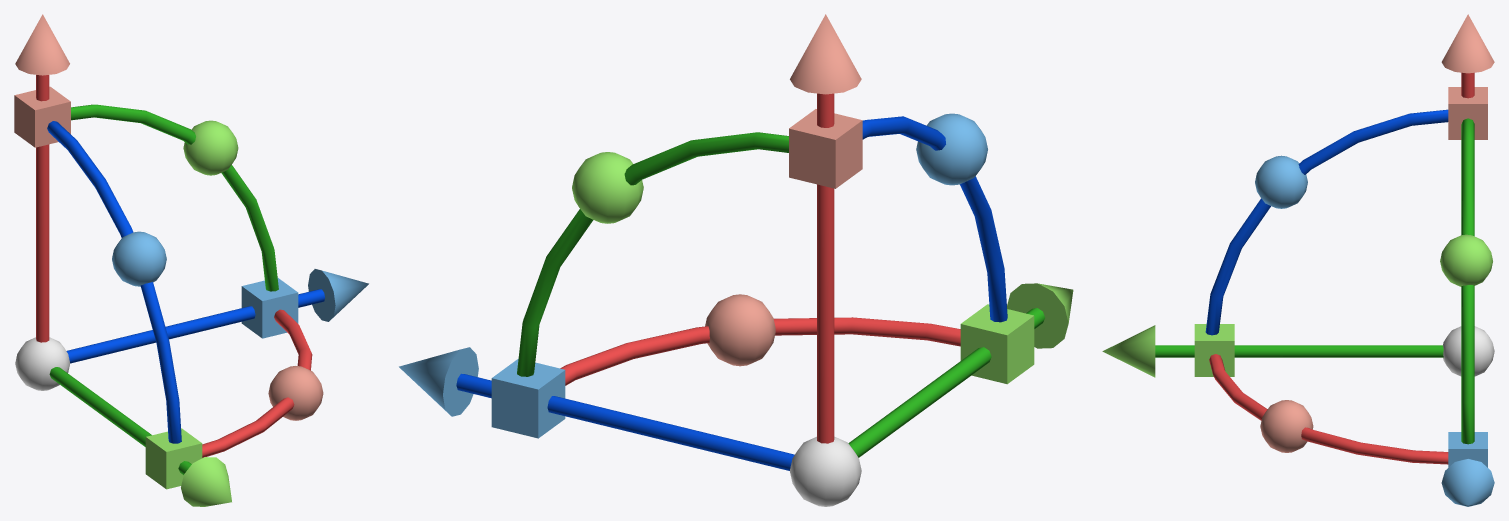
Rendered from Gizmo.Full.Test3.glb.
3 renders of one model, left to right at view 1: azimuth 30°, elevation 25°; view 2: azimuth 150°, elevation 25°; view 3: azimuth 270°, elevation 25°, orthographic. The views are drawn at different scales.
Visible parts, largest first — view 1: BendTest, BendTest.001, BaseLine.002, BaseLine.003, zAxisCube, BendTest.002, ySphere, yAxisCube, xAxisCube, xSphere, zSphere, Origin (+4 smaller); view 2: BendTest.001, BendTest.002, BaseLine.002, BaseLine.003, zAxisCube, xAxisCube, BendTest, yAxisCube, zSphere, Origin, xSphere, ySphere (+4 smaller); view 3: BendTest, BendTest.001, BaseLine.001, BendTest.002, xSphere, ySphere, zSphere, xDragCone, zDragCone, yAxisCube, zAxisCube, Origin (+2 smaller).
Part boxes in pixels (x1=…): BendTest: x1=47, y1=121, x2=181, y2=443; BendTest.001: x1=71, y1=104, x2=278, y2=291; BaseLine.002: x1=36, y1=75, x2=49, y2=342; BaseLine.003: x1=66, y1=289, x2=324, y2=363; zAxisCube: x1=14, y1=86, x2=70, y2=147; BendTest.002: x1=202, y1=309, x2=312, y2=457; ySphere: x1=112, y1=231, x2=166, y2=286; yAxisCube: x1=145, y1=428, x2=202, y2=489; xAxisCube: x1=241, y1=278, x2=298, y2=338; xSphere: x1=183, y1=120, x2=238, y2=175; zSphere: x1=268, y1=366, x2=323, y2=420; Origin: x1=15, y1=337, x2=70, y2=390; BendTest.001: x1=517, y1=132, x2=788, y2=376; BendTest.002: x1=560, y1=317, x2=960, y2=385; BaseLine.002: x1=817, y1=93, x2=834, y2=443; BaseLine.003: x1=456, y1=373, x2=794, y2=470; zAxisCube: x1=789, y1=109, x2=862, y2=188; xAxisCube: x1=491, y1=358, x2=565, y2=438; BendTest: x1=862, y1=116, x2=1007, y2=322; yAxisCube: x1=960, y1=304, x2=1034, y2=384; zSphere: x1=705, y1=294, x2=775, y2=366; Origin: x1=790, y1=436, x2=861, y2=506; xSphere: x1=572, y1=152, x2=643, y2=223; ySphere: x1=916, y1=113, x2=987, y2=185; BendTest: x1=1205, y1=109, x2=1448, y2=335; BendTest.001: x1=1461, y1=118, x2=1474, y2=444; BaseLine.001: x1=1155, y1=345, x2=1443, y2=357; BendTest.002: x1=1209, y1=354, x2=1448, y2=464; xSphere: x1=1440, y1=234, x2=1492, y2=286; ySphere: x1=1255, y1=155, x2=1307, y2=208; zSphere: x1=1260, y1=400, x2=1313, y2=452; xDragCone: x1=1441, y1=459, x2=1494, y2=506; zDragCone: x1=1441, y1=14, x2=1494, y2=73; yAxisCube: x1=1194, y1=324, x2=1234, y2=376; zAxisCube: x1=1448, y1=87, x2=1487, y2=139; Origin: x1=1443, y1=326, x2=1494, y2=376.
Bounding box in the file's own units: 1.47 × 1.5 × 1.48.
